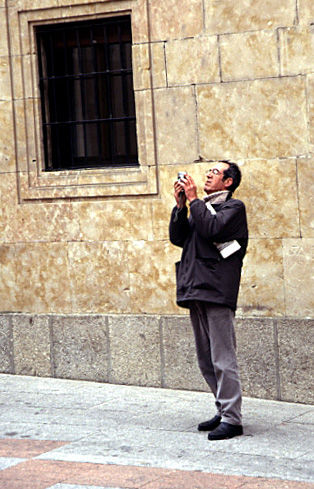person: (170, 164, 250, 442)
